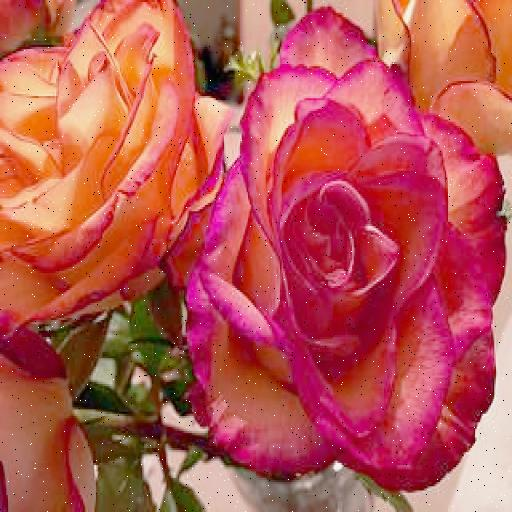rose: (186, 8, 506, 488)
